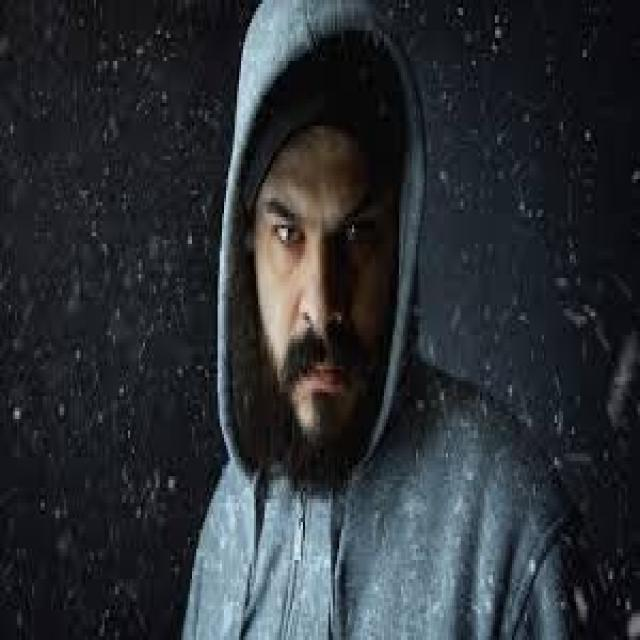4_capucha: (218, 0, 424, 495)
